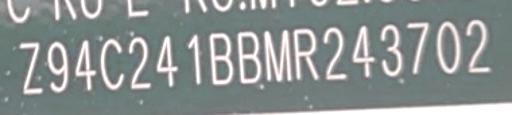letter: (462, 15, 492, 78), (260, 27, 292, 86), (319, 25, 349, 82), (434, 17, 462, 76), (349, 23, 377, 82), (207, 30, 235, 89), (98, 34, 126, 93), (16, 39, 44, 96), (292, 28, 320, 83), (235, 29, 263, 84), (404, 19, 430, 78), (377, 21, 403, 80), (127, 33, 153, 90), (154, 33, 180, 90), (46, 40, 72, 97), (72, 39, 96, 92), (186, 32, 202, 89)
